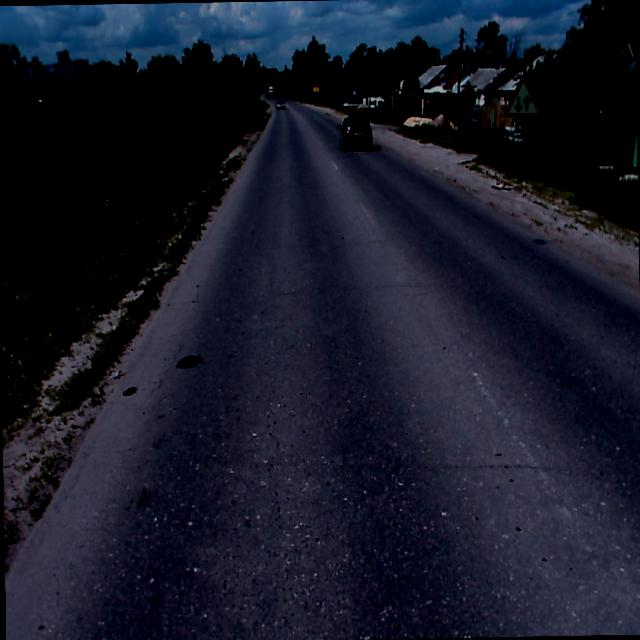road: (5, 89, 640, 640)
